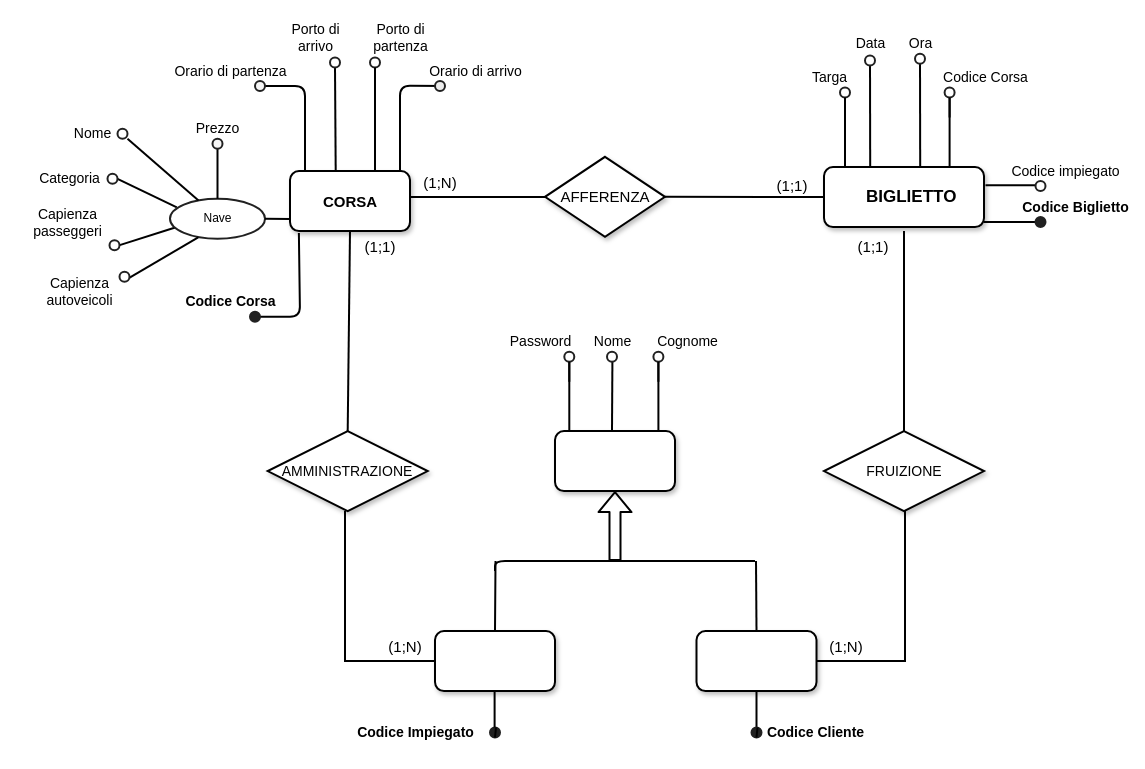
Some shapes in this 1145 by 769 pixel diagram are drawn without their labels. Here are the shapes that lost their labels. From the top down, the centre of each, then its label:
At point 616,462: "UTENTI".
At point 496,662: "DIPENDENTI".
At point 757,662: "CLIENTI".
